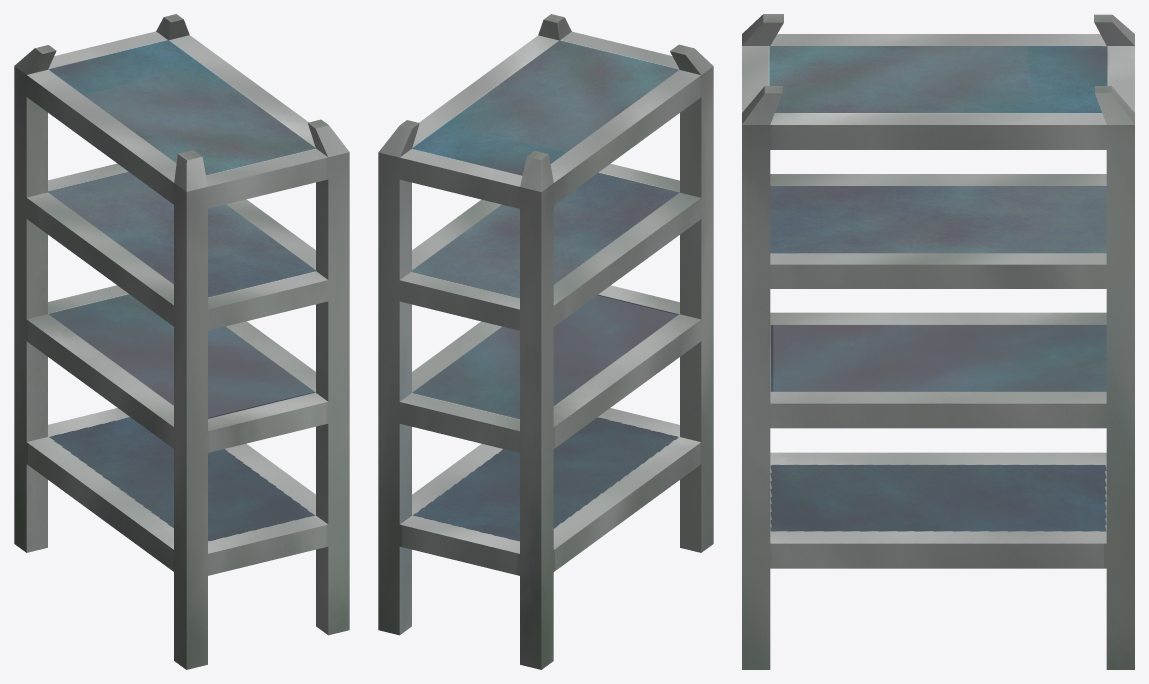
The model's file is Shelf.fbx.
The picture shows the model from 3 angles, left to right: view 1: azimuth 30°, elevation 25°; view 2: azimuth 150°, elevation 25°; view 3: azimuth 270°, elevation 25°; orthographic projection. The views are drawn at different scales.
Visible parts, largest first — view 1: Shelf; view 2: Shelf; view 3: Shelf.
Part boxes in pixels (box(x1,y1,x2,y2)): Shelf: box(14, 14, 349, 669); Shelf: box(378, 14, 713, 669); Shelf: box(742, 14, 1134, 669).
Bounding box in the file's own units: 0.5442 × 1.59 × 0.9949.
Materials: 1 (1 with a texture image).
